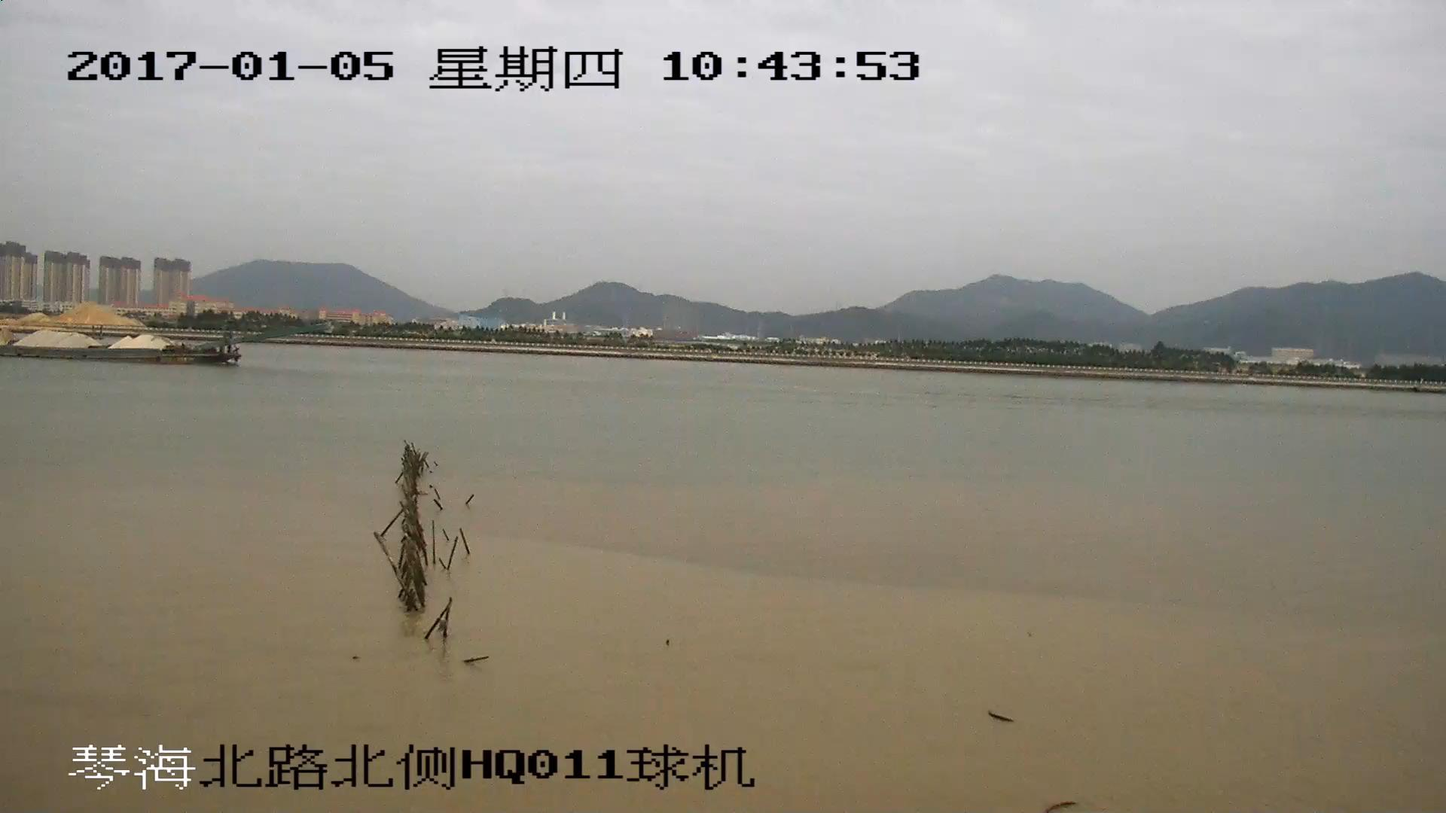ore carrier: (0, 324, 323, 365)
